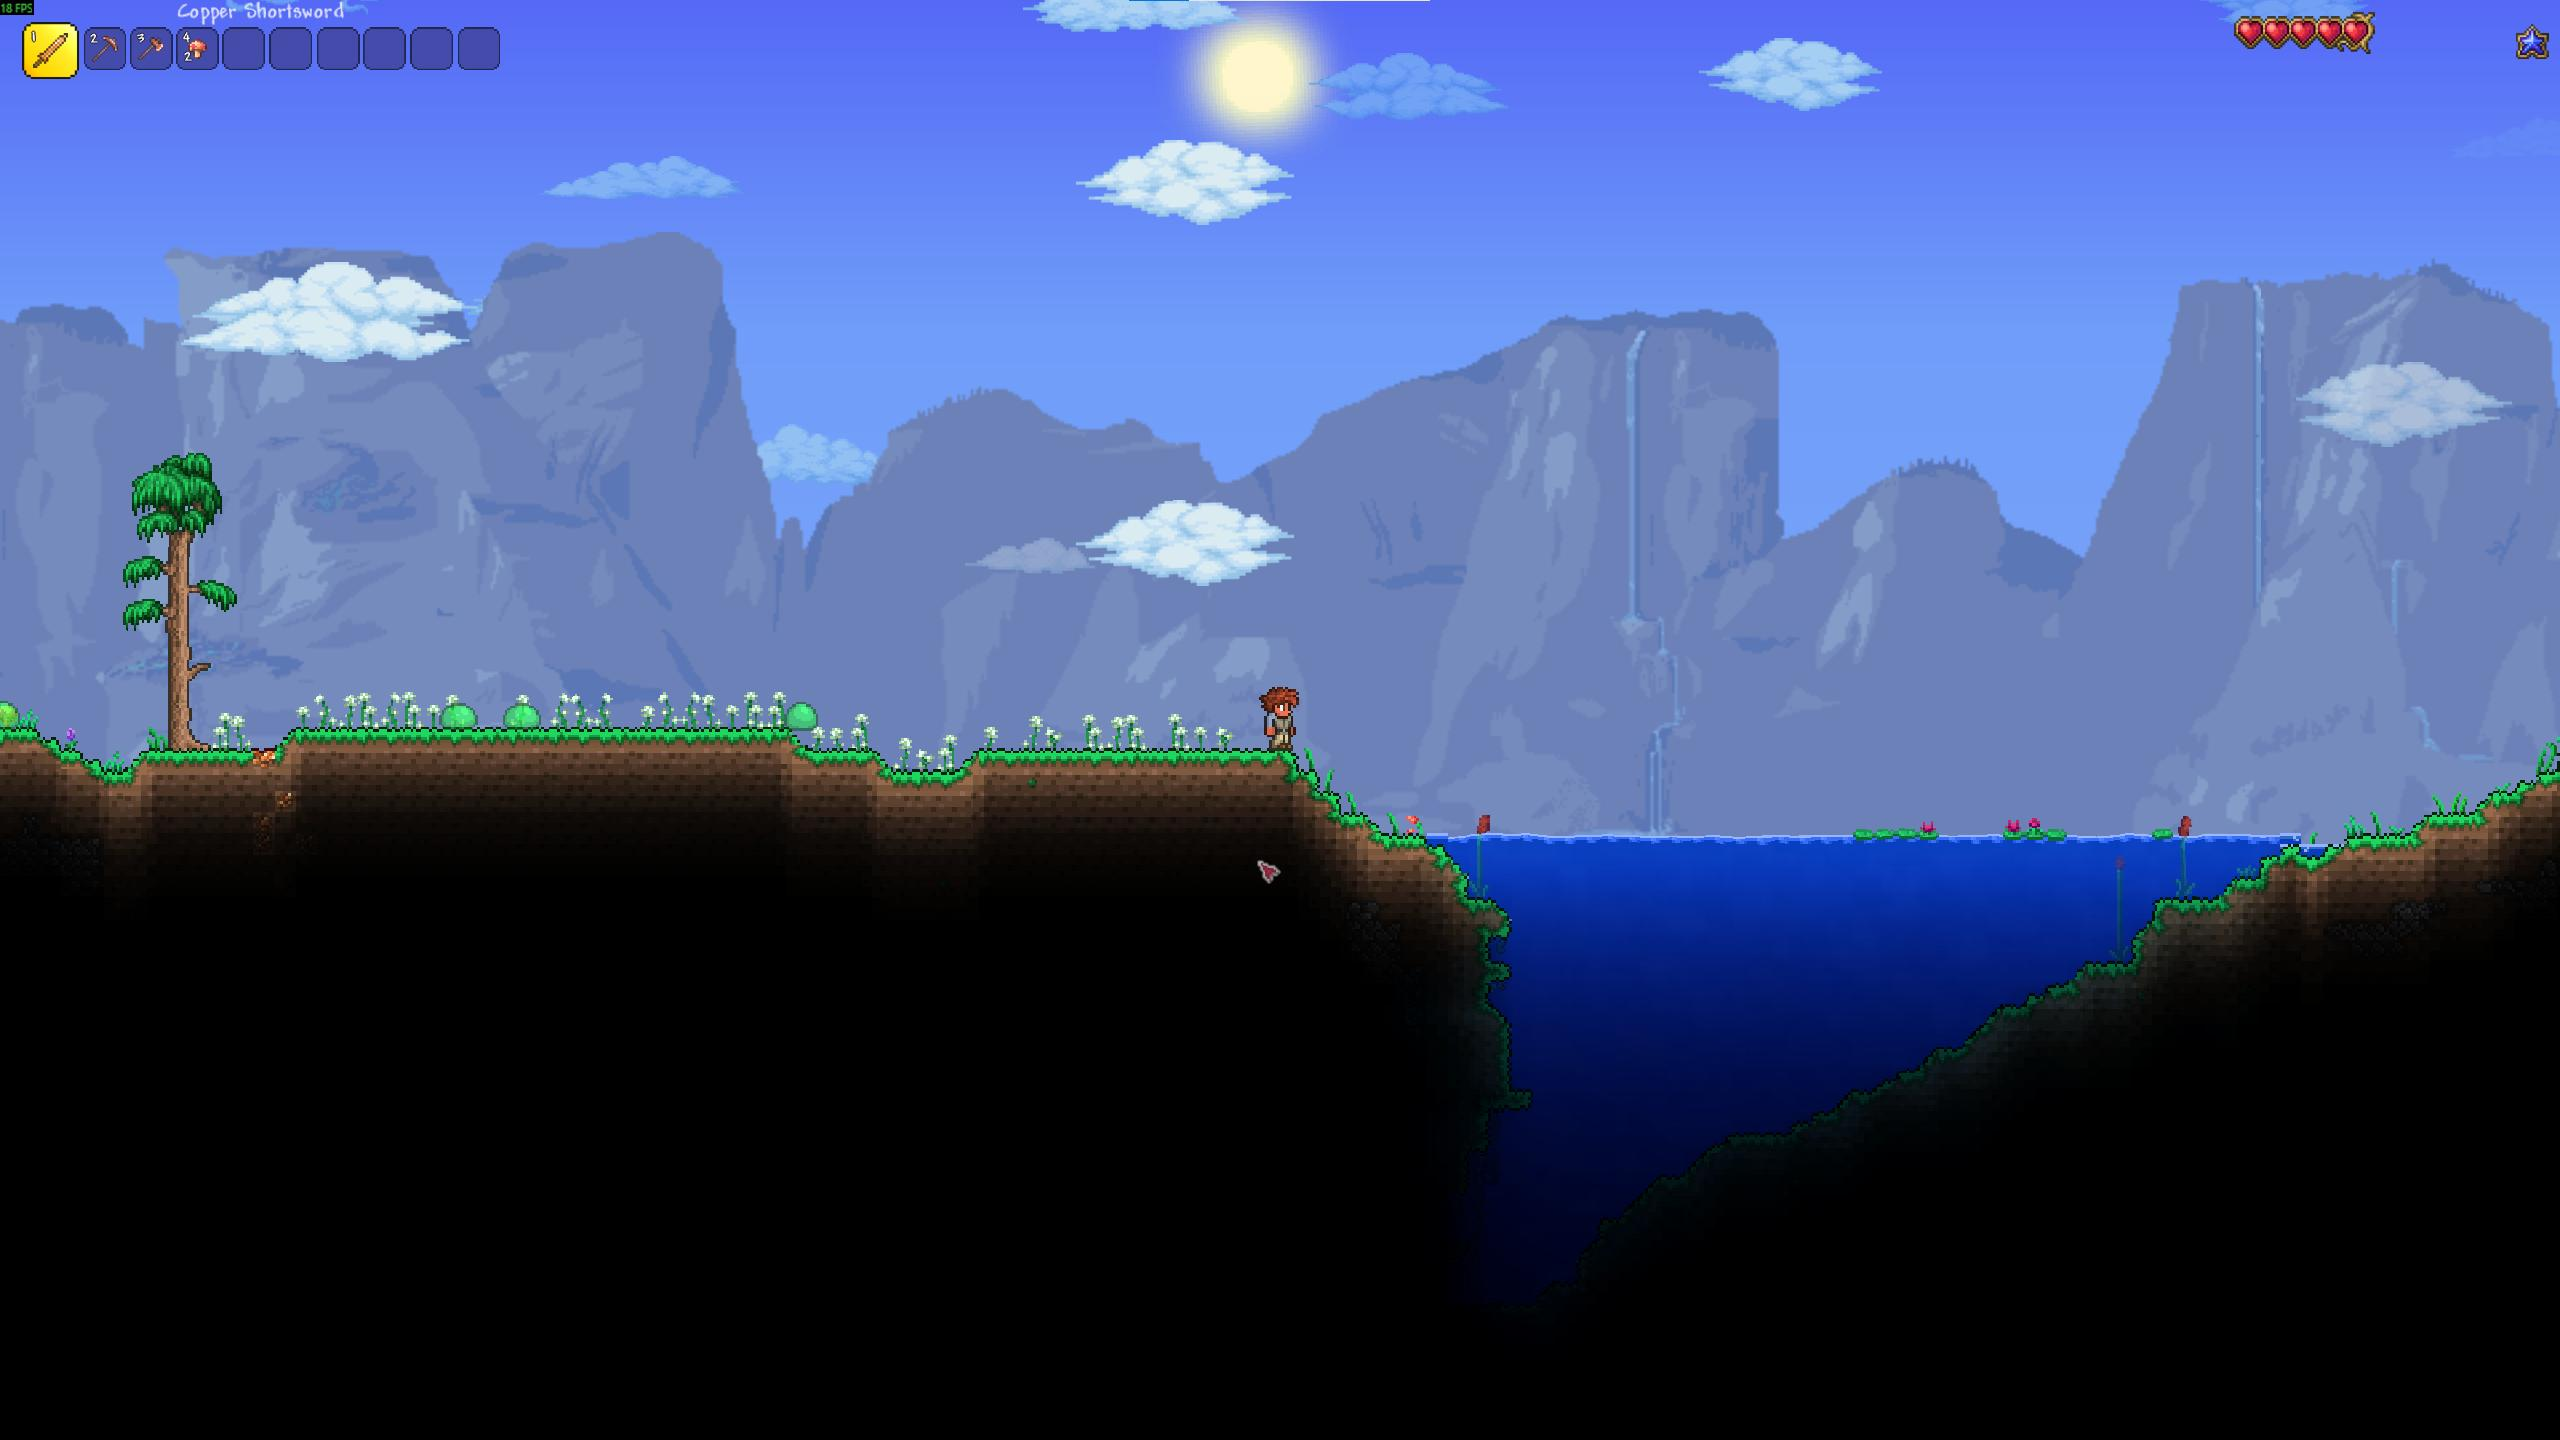Green Slime: (777, 695, 830, 740), (436, 695, 485, 737), (499, 696, 543, 733), (0, 698, 23, 731)
